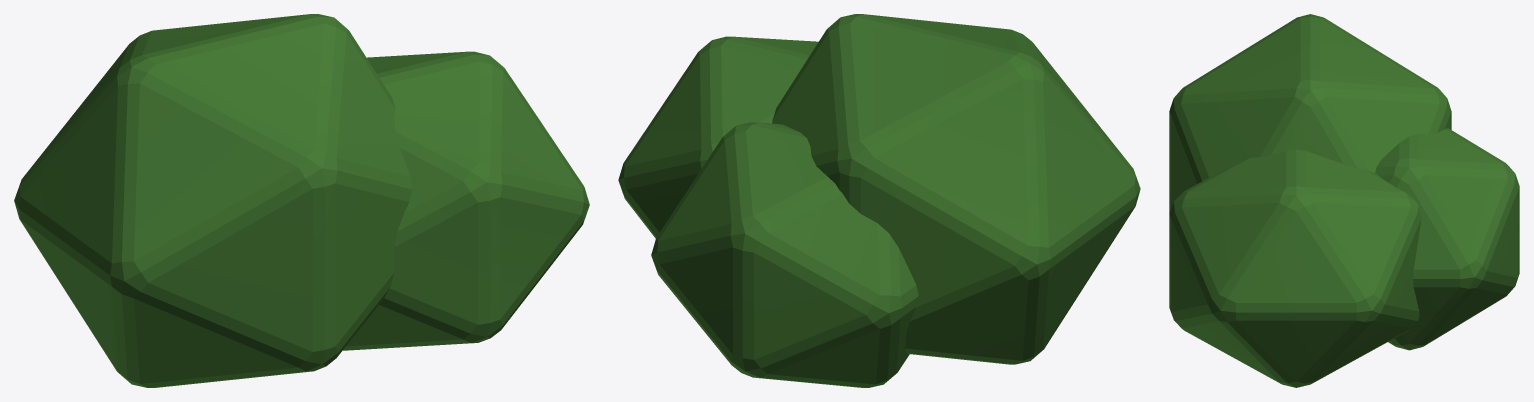
File: prop_bush.glb
3 renders of one model, left to right at view 1: azimuth 30°, elevation 25°; view 2: azimuth 150°, elevation 25°; view 3: azimuth 270°, elevation 25°, orthographic. The views are drawn at different scales.
Visible parts, largest first — view 1: prop_bush_part_0; view 2: prop_bush_part_0; view 3: prop_bush_part_0.
Part boxes in pixels (x1,y1,x2,y2): prop_bush_part_0: (14, 14, 589, 387); prop_bush_part_0: (618, 14, 1140, 387); prop_bush_part_0: (1169, 14, 1519, 387).
Bounding box in the file's own units: 1.77 × 1.17 × 1.49.
